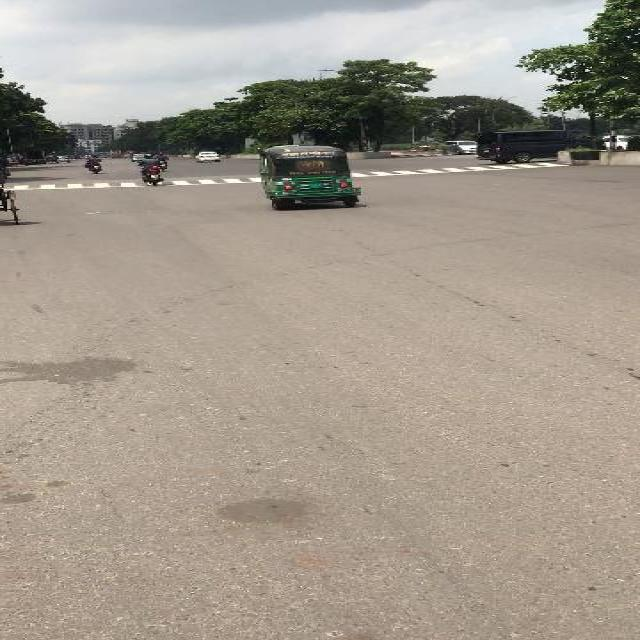bike: (138, 154, 166, 187), (84, 155, 103, 175), (156, 153, 170, 173)
vehicle: (256, 146, 361, 211), (479, 130, 605, 163), (443, 141, 477, 156), (194, 152, 220, 163), (110, 149, 123, 159), (132, 154, 144, 162)
